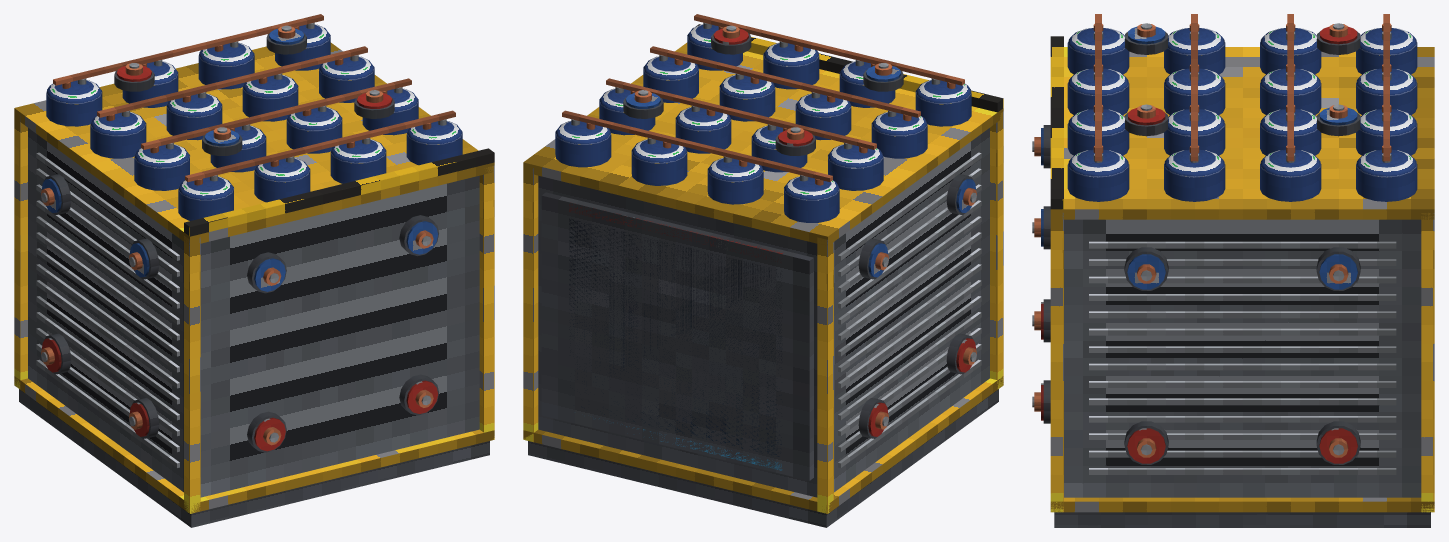
Rendered from battery.obj.
3 views of the same model, side by side, from view 1: azimuth 30°, elevation 25°; view 2: azimuth 150°, elevation 25°; view 3: azimuth 270°, elevation 25° (orthographic). The views are drawn at different scales.
Bounding box in the file's own units: 2.19 × 2.19 × 2.1.
